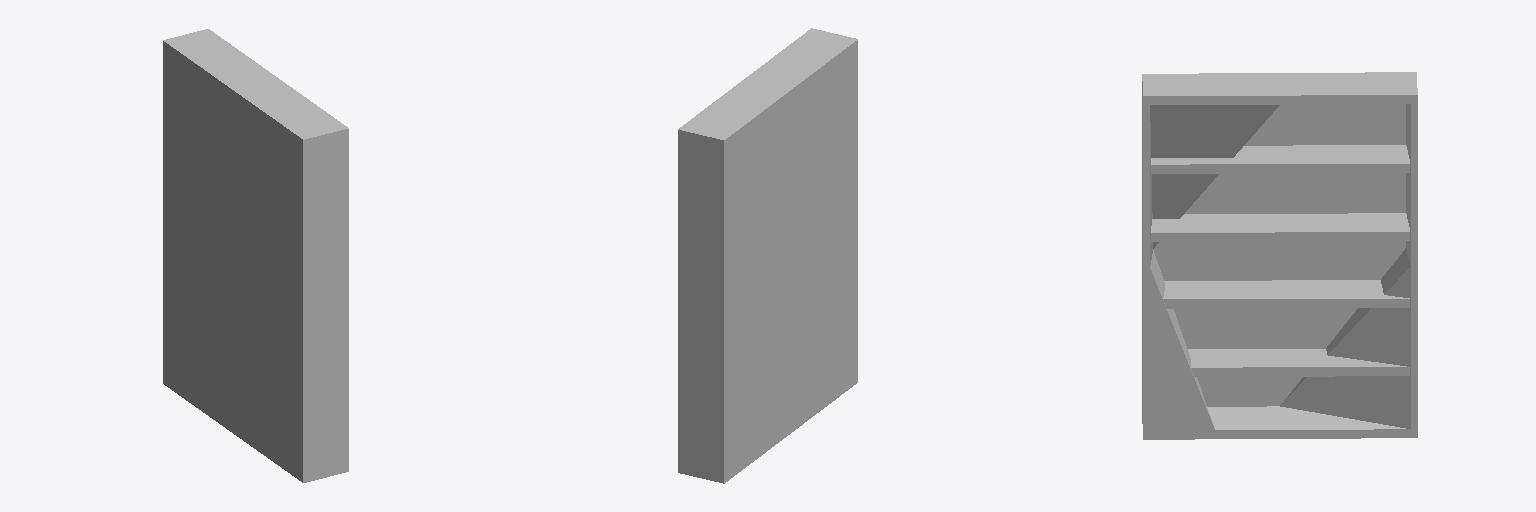
The model's file is Librero.obj.
3 views of the same model, side by side, from view 1: azimuth 30°, elevation 25°; view 2: azimuth 150°, elevation 25°; view 3: azimuth 270°, elevation 25° (orthographic).
Visible parts, largest first — view 1: Librero; view 2: Librero; view 3: Librero.
Boxes of the visible parts, x1=… form: Librero: x1=163, y1=29, x2=348, y2=482; Librero: x1=678, y1=28, x2=857, y2=483; Librero: x1=1142, y1=72, x2=1417, y2=439.
Bounding box in the file's own units: 8.3 × 54.77 × 39.82.